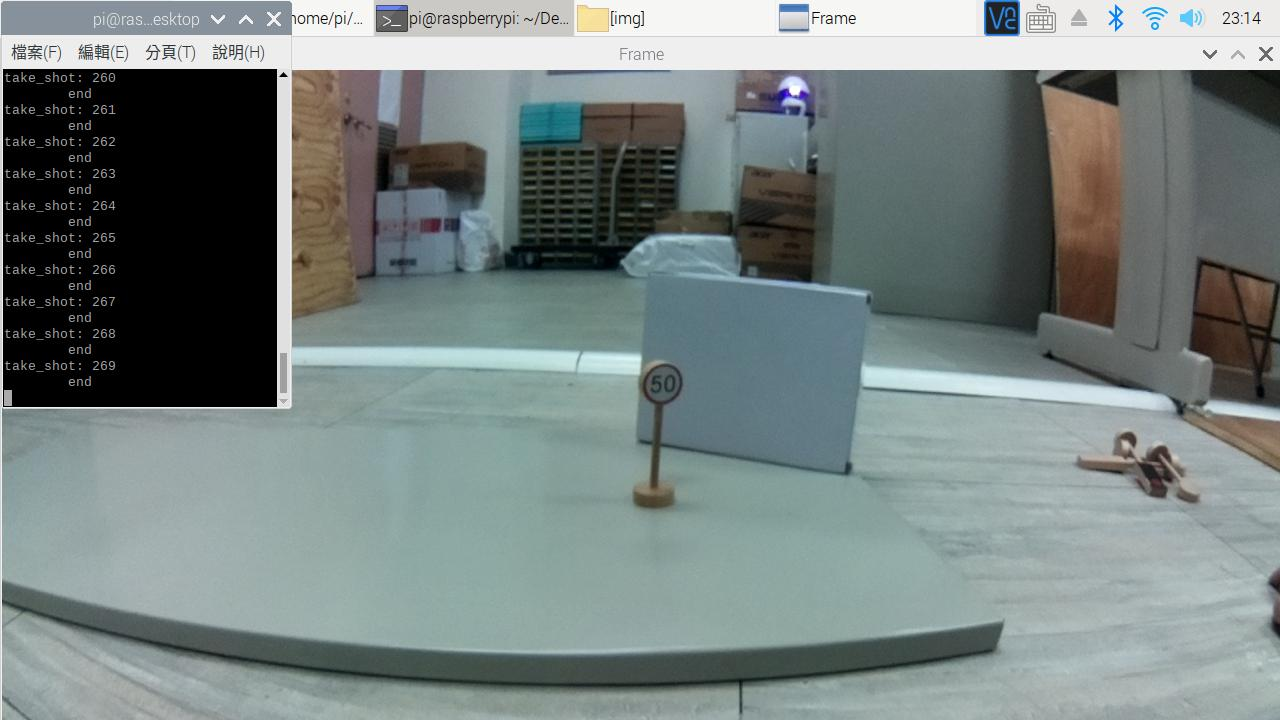Speed50: (624, 353, 701, 416)
